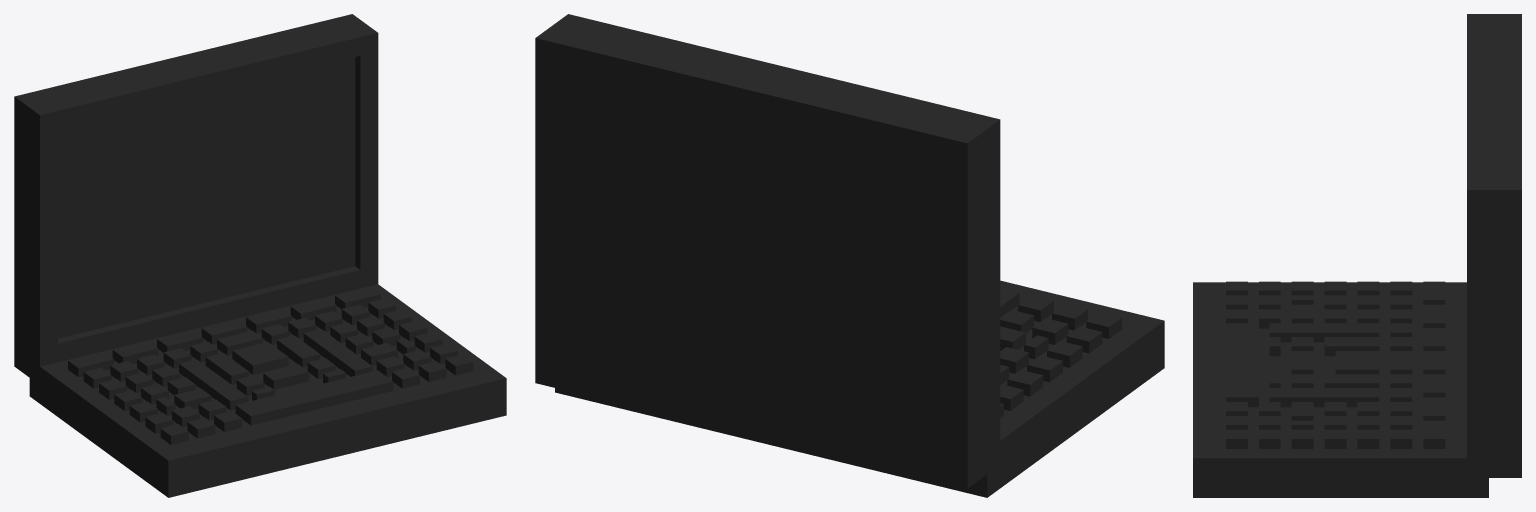
Rendered from laptop.obj.
The picture shows the model from 3 angles, left to right: view 1: azimuth 30°, elevation 25°; view 2: azimuth 150°, elevation 25°; view 3: azimuth 270°, elevation 25°; orthographic projection. The views are drawn at different scales.
Parts seen in each view (by area): view 1: laptop; view 2: laptop; view 3: laptop.
Part boxes in pixels (x1,y1,x2,y2): laptop: (14, 14, 506, 497); laptop: (535, 14, 1164, 497); laptop: (1193, 14, 1521, 497).
Size of the model in its own units: 38 by 31 by 30.
